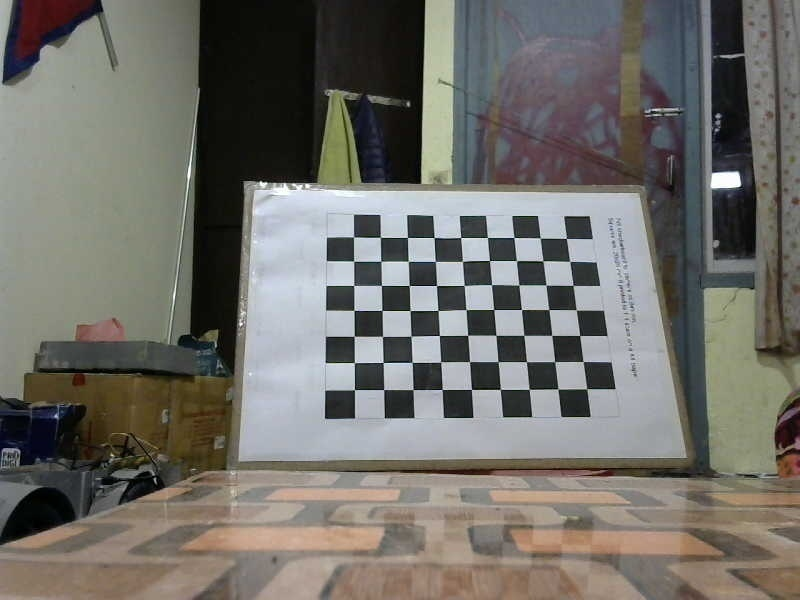block: (246, 185, 699, 475)
